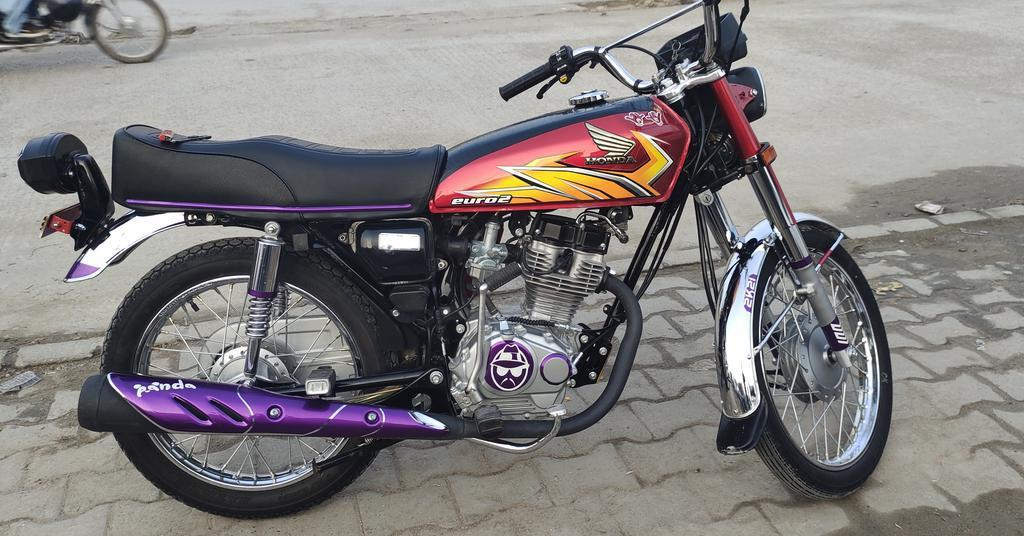bike: (17, 8, 907, 523)
